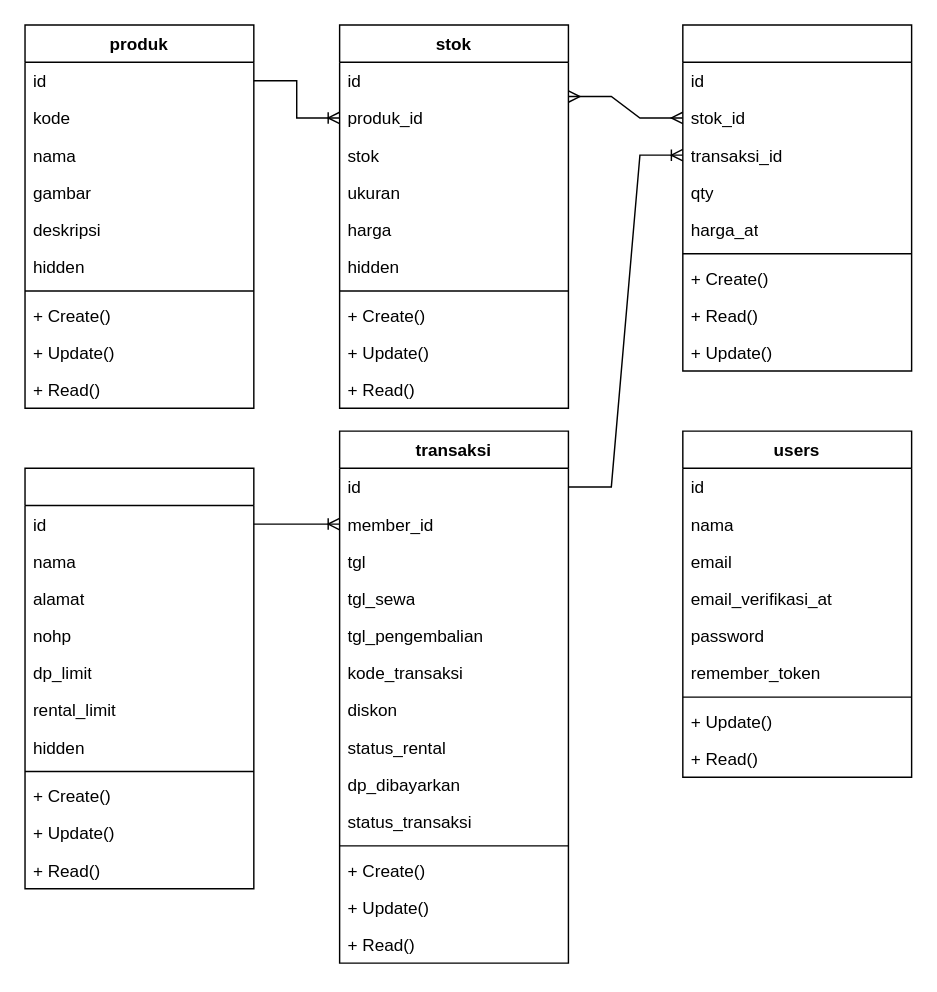
The diagram is 937 pixels wide and 992 high, and some of its shapes have lost their labels. Each missing label, with the box of its shape:
detail_transaksi: (681, 24, 912, 371)
member: (24, 467, 254, 889)
